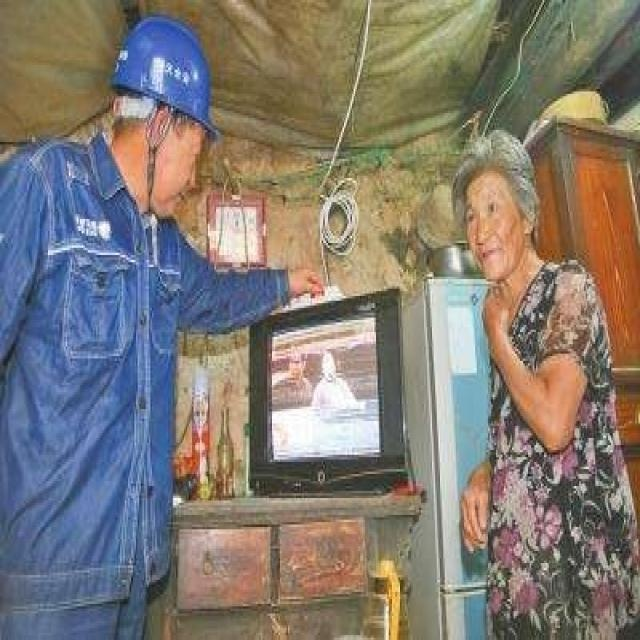Con_Casco: (113, 20, 219, 219)
Sin_Casco_Mascarrilla: (451, 131, 535, 283)
